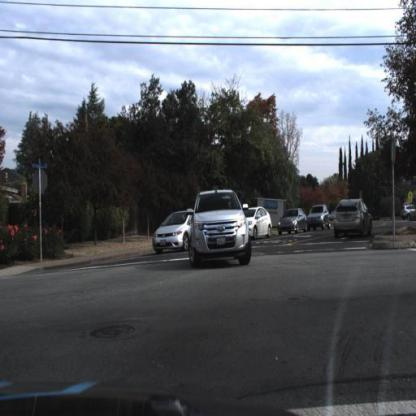car: (189, 191, 250, 266), (333, 197, 374, 246), (150, 212, 193, 251), (240, 206, 275, 241), (277, 208, 308, 235), (309, 201, 331, 233), (402, 204, 416, 221)
